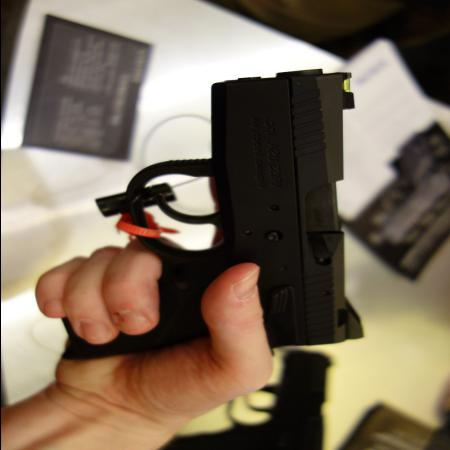Pistol: (61, 70, 369, 363)
